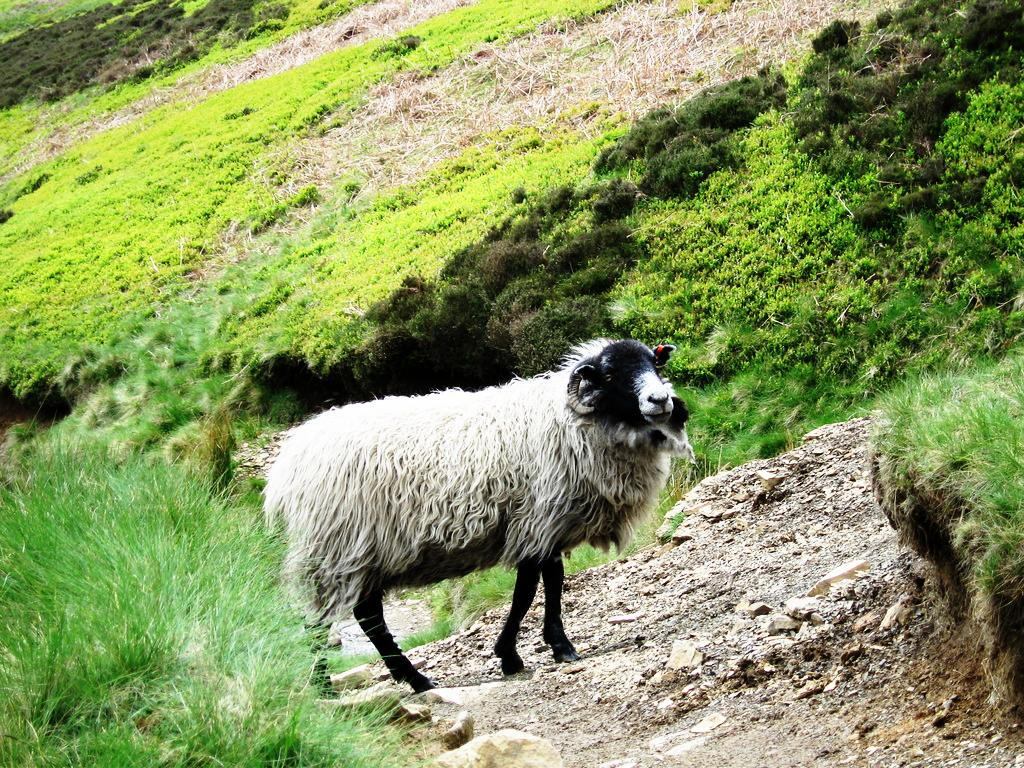Sheep: (263, 338, 691, 702)
